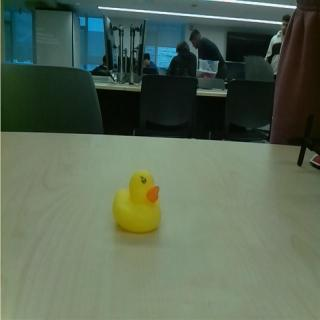duck_regular: (112, 170, 164, 236)
